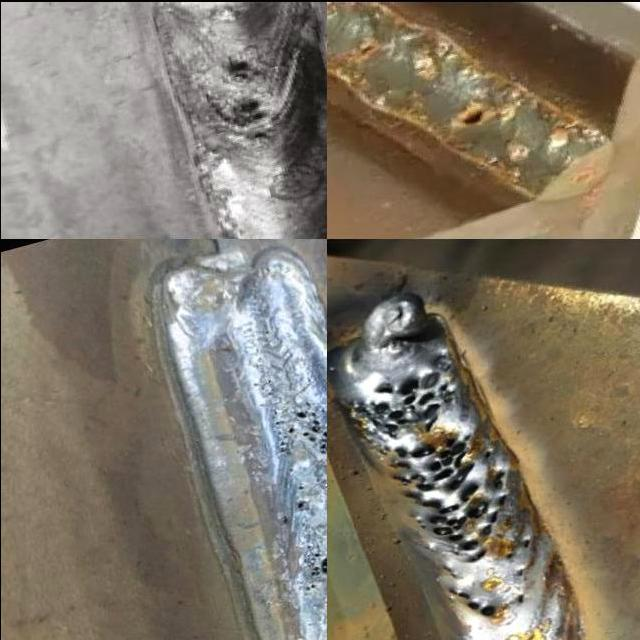defect: (381, 431, 510, 558), (350, 363, 456, 442), (208, 95, 283, 142), (277, 402, 326, 470), (437, 582, 503, 625), (210, 51, 269, 86), (452, 105, 484, 126), (347, 40, 376, 60), (286, 493, 313, 514), (435, 557, 458, 576), (509, 586, 531, 604), (519, 535, 535, 550), (498, 550, 514, 560), (514, 567, 527, 578)
